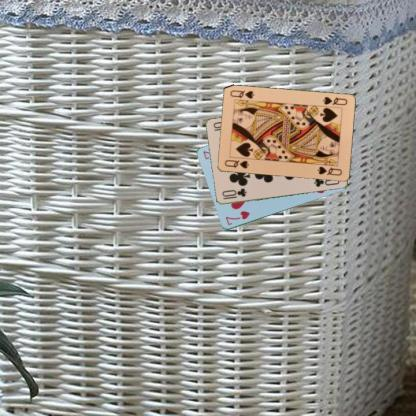10c: (219, 186, 248, 200)
7h: (223, 208, 251, 226)
Qs: (222, 157, 250, 170), (320, 94, 348, 106)
